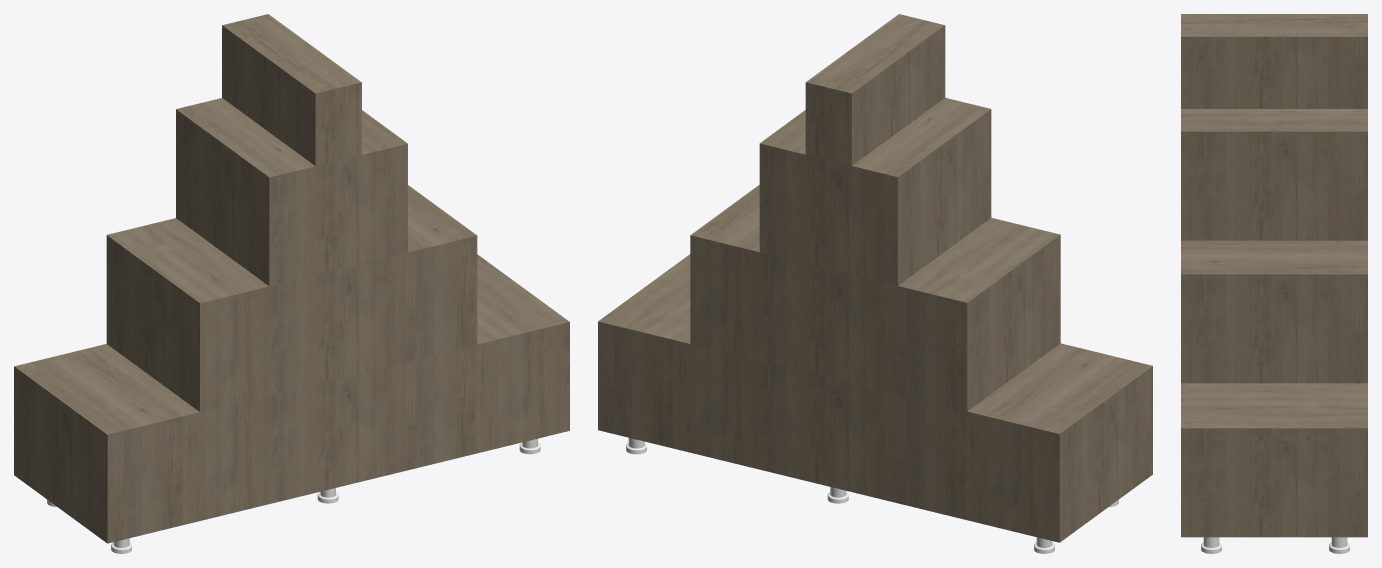
3 renders of one model, left to right at view 1: azimuth 30°, elevation 25°; view 2: azimuth 150°, elevation 25°; view 3: azimuth 270°, elevation 25°, orthographic.
Parts seen in each view (by area): view 1: Box001, Box006, Box039, Box040; view 2: Box001, Box006, Box039, Box040; view 3: Box001, Box006, Box039, Box040, Box007, Cylinder003, Cylinder008.
Part boxes in pixels (bbox=[...]): Box001: bbox=[14, 254, 569, 543]; Box006: bbox=[106, 185, 477, 411]; Box039: bbox=[176, 98, 407, 286]; Box040: bbox=[222, 14, 361, 166]; Box001: bbox=[598, 254, 1152, 542]; Box006: bbox=[690, 185, 1060, 411]; Box039: bbox=[759, 97, 991, 285]; Box040: bbox=[805, 14, 945, 165]; Box001: bbox=[1181, 383, 1367, 537]; Box006: bbox=[1181, 240, 1367, 383]; Box039: bbox=[1181, 109, 1367, 240]; Box040: bbox=[1181, 14, 1367, 108]; Box007: bbox=[1207, 435, 1341, 440]; Cylinder003: bbox=[1201, 537, 1221, 553]; Cylinder008: bbox=[1329, 537, 1349, 553].
Size of the model in its own units: 2 by 1.75 by 0.7.
2 materials, 1 textured.
